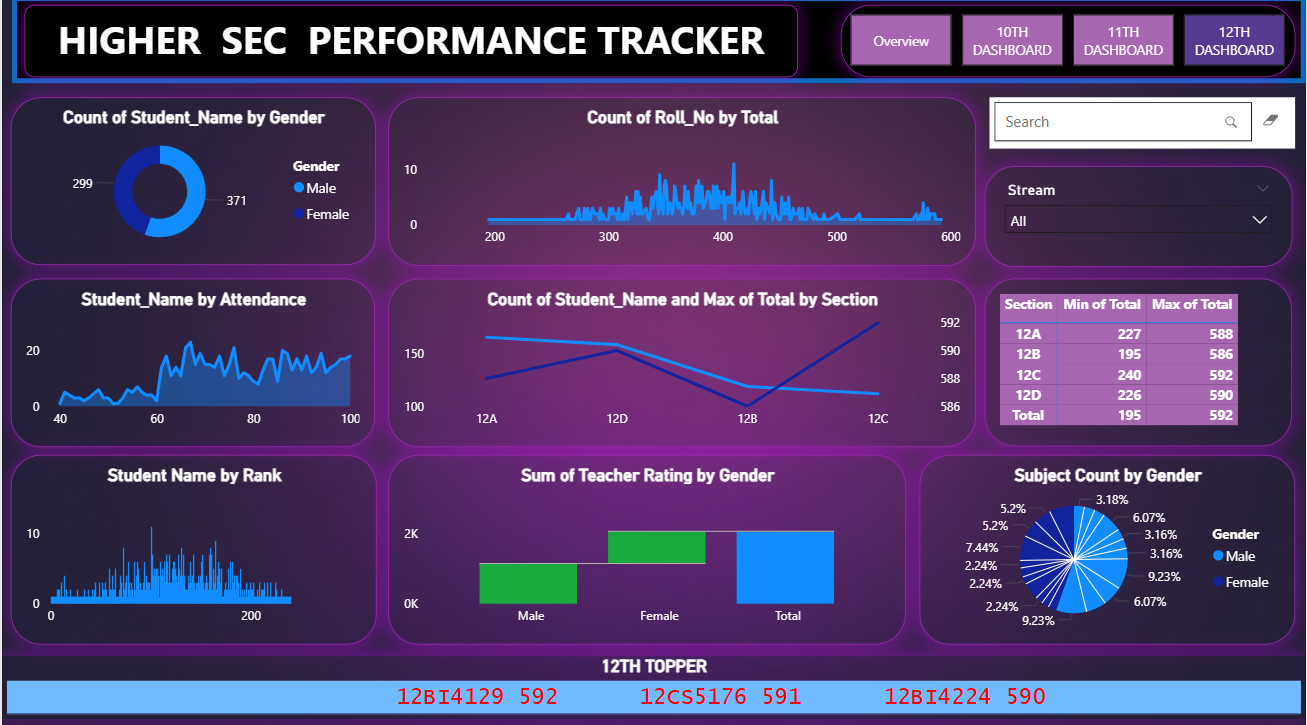

Layout of this report page (visuals, bound fields, positions):
{"tool":"powerbi","page":{"name":"12TH DASHBOARD","canvas":[1280,720],"ordinal":3},"visuals":[{"type":"slicer","fields":{"Values":["Append4.Stream"]},"box":[964,166.3,302.3,98.8],"z":0},{"type":"pieChart","title":"Subject Count by Gender","fields":{"Category":["12th overall.Gender"],"Y":["CountNonNull(12th overall.Biology)","CountNonNull(12th overall.Accounts)","CountNonNull(12th overall.Business Maths)","CountNonNull(12th overall.Chemistry)","CountNonNull(12th overall.Commerce)","CountNonNull(12th overall.Computer Science)","CountNonNull(12th overall.Economics)","CountNonNull(12th overall.English)","CountNonNull(12th overall.Maths)","CountNonNull(12th overall.Physics)","CountNonNull(12th overall.Tamil)"]},"box":[901.2,450,368.6,186],"z":1000},{"type":"pivotTable","title":"Section By Min &Max Total","fields":{"Rows":["12th overall.Section"],"Values":["Min(12th overall.Total)","Max(12th overall.Total)1"]},"box":[964.4,277.3,301.8,164.4],"z":2000},{"type":"waterfallChart","fields":{"Category":["12th overall.Gender"],"Y":["Sum(12th overall.Teacher Rating)"]},"box":[379.1,450,508.1,186],"z":3000},{"type":"areaChart","title":" Student_Name by Attendance","fields":{"Y":["CountNonNull(12th overall.Student_Name)"],"Category":["12th overall.Attendance"]},"box":[8.7,276.8,358,165.2],"z":4000},{"type":"columnChart","title":"Student Name by Rank","fields":{"Category":["12th overall.Rank"],"Y":["CountNonNull(12th overall.Student_Name)"]},"box":[8.1,450,359.3,186],"z":5000},{"type":"areaChart","fields":{"Category":["12th overall.Total"],"Y":["CountNonNull(12th overall.Roll_No)"]},"box":[379.7,100,576.8,165.2],"z":6000},{"type":"lineChart","fields":{"Category":["12th overall.Section"],"Y":["Count(12th overall.Student_Name)"],"Y2":["Max(12th overall.Total)"]},"box":[379.7,276.8,576.8,165.2],"z":7000},{"type":"ScrollingTextVisual1448795304508","title":"12TH TOPPER","fields":{"Measure Absolute":["Sum(12th overall.Total)"],"Category":["12th overall.Roll_No"]},"box":[0,647.7,1280.2,61.6],"z":8000},{"type":"donutChart","fields":{"Category":["12th overall.Gender"],"Y":["CountNonNull(12th overall.Student_Name)"]},"box":[8.1,100,358.1,165.1],"z":9000},{"type":"shape","box":[10,0,1270,85.7],"z":10000},{"type":"textbox","box":[22.1,8.1,759.3,70.9],"z":11000},{"type":"pageNavigator","box":[823.3,8.1,446.5,70.9],"z":12000},{"type":"textFilter25A4896A83E0487089E2B90C9AE57C8A","fields":{"field":["12th overall.Roll_No"]},"box":[969.8,100,300,50],"z":13000}]}

Visuals, with their boxes in screenshot pixels (x1, y1, x2, y2), scaled from the page's 1280x720 canvas onto the 1307x725 screenshot:
slicer - Append4.Stream: <bbox>984, 167, 1293, 267</bbox>
"Subject Count by Gender" pieChart: <bbox>920, 453, 1297, 640</bbox>
"Section By Min &Max Total" pivotTable: <bbox>985, 279, 1293, 445</bbox>
waterfallChart - 12th overall.Gender x Sum(12th overall.Teacher Rating): <bbox>387, 453, 906, 640</bbox>
" Student_Name by Attendance" areaChart: <bbox>9, 279, 374, 445</bbox>
"Student Name by Rank" columnChart: <bbox>8, 453, 375, 640</bbox>
areaChart - 12th overall.Total x CountNonNull(12th overall.Roll_No): <bbox>388, 101, 977, 267</bbox>
lineChart - 12th overall.Section x Count(12th overall.Student_Name): <bbox>388, 279, 977, 445</bbox>
"12TH TOPPER" ScrollingTextVisual1448795304508: <bbox>0, 652, 1306, 714</bbox>
donutChart - 12th overall.Gender x CountNonNull(12th overall.Student_Name): <bbox>8, 101, 374, 267</bbox>
shape: <bbox>10, 0, 1306, 86</bbox>
textbox: <bbox>23, 8, 798, 80</bbox>
pageNavigator: <bbox>841, 8, 1297, 80</bbox>
textFilter25A4896A83E0487089E2B90C9AE57C8A - 12th overall.Roll_No: <bbox>990, 101, 1297, 151</bbox>
